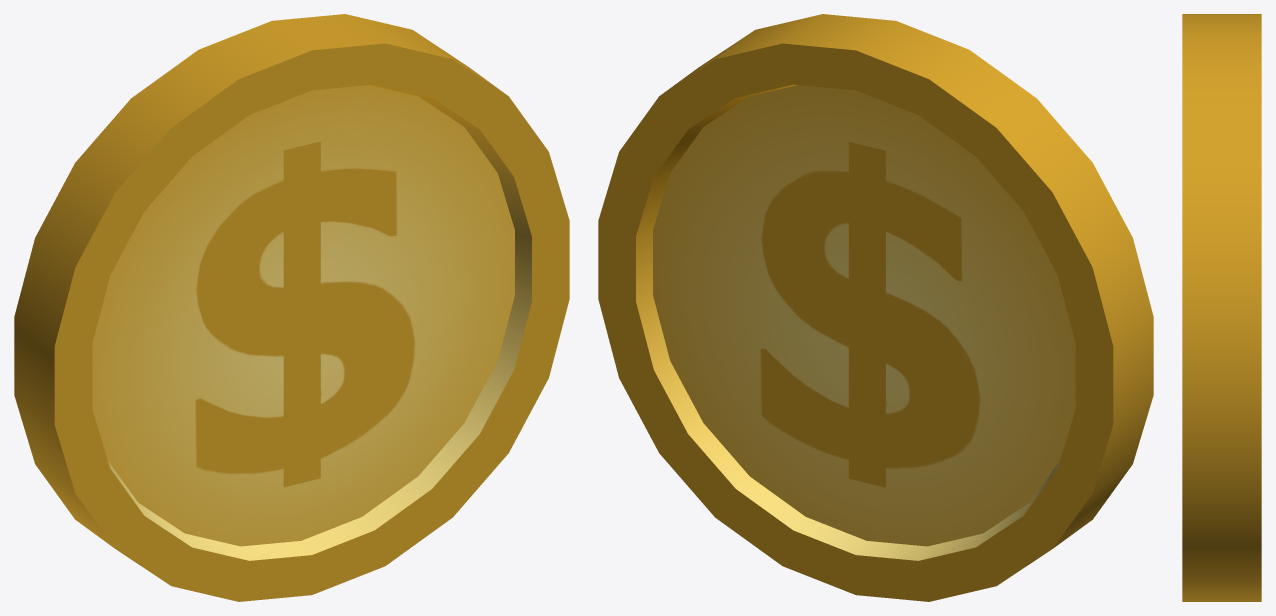
The model's file is Coin.fbx.
The picture shows the model from 3 angles, left to right: view 1: azimuth 30°, elevation 25°; view 2: azimuth 150°, elevation 25°; view 3: azimuth 270°, elevation 25°; orthographic projection.
Visible parts, largest first — view 1: Coin; view 2: Coin; view 3: Coin.
Part boxes in pixels (x1,y1,x2,y2): Coin: (14, 14, 569, 601); Coin: (598, 14, 1153, 601); Coin: (1182, 14, 1261, 601).
Size of the model in its own units: 6.8 by 6.87 by 0.9215.
